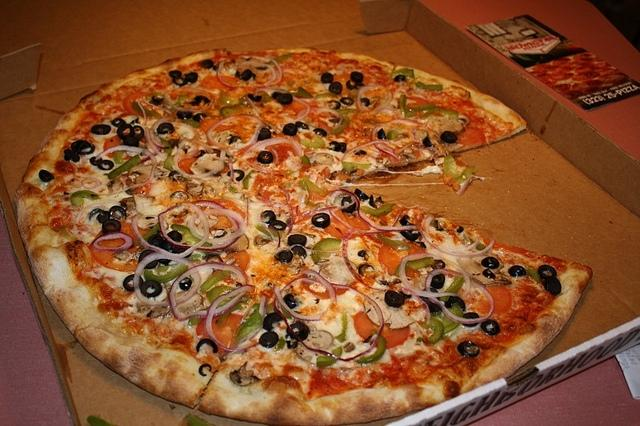bell pepper: (354, 329, 386, 364), (218, 295, 251, 327), (430, 302, 463, 334), (170, 224, 212, 247), (234, 312, 264, 343), (144, 263, 188, 284), (108, 154, 142, 180), (312, 238, 342, 263), (200, 270, 234, 292), (440, 276, 464, 302), (421, 317, 444, 344), (132, 100, 162, 120), (299, 176, 328, 196), (136, 222, 160, 246), (317, 346, 343, 367), (220, 100, 248, 119), (208, 286, 236, 304), (421, 107, 459, 120), (71, 190, 101, 206), (360, 204, 396, 217), (376, 236, 409, 250), (404, 104, 436, 118), (334, 312, 348, 342), (443, 154, 460, 178), (406, 256, 434, 270), (255, 224, 283, 238), (300, 134, 326, 149), (455, 166, 476, 184), (342, 160, 372, 172), (330, 117, 350, 134), (169, 94, 186, 114), (243, 170, 257, 190), (291, 86, 314, 98), (158, 136, 172, 155), (416, 80, 442, 90), (526, 268, 541, 284), (163, 154, 176, 172), (270, 54, 292, 64), (273, 336, 286, 352), (394, 68, 414, 78), (220, 93, 235, 105), (180, 120, 200, 128), (336, 108, 358, 115), (114, 150, 125, 164), (281, 306, 292, 320), (316, 92, 337, 98), (300, 154, 310, 164), (267, 302, 275, 314), (188, 253, 201, 260), (388, 131, 398, 140), (476, 243, 487, 250)
onion: (273, 276, 384, 362), (168, 262, 248, 322), (131, 202, 210, 260), (425, 269, 494, 324), (204, 284, 259, 352), (134, 252, 202, 306), (339, 188, 418, 231), (399, 253, 471, 297), (96, 144, 158, 194), (342, 227, 389, 291), (421, 218, 495, 256), (371, 118, 423, 161), (190, 209, 247, 243), (256, 88, 310, 122), (276, 286, 322, 322), (192, 200, 238, 232), (240, 296, 268, 344), (300, 269, 337, 305), (164, 86, 214, 112), (245, 137, 302, 156), (342, 140, 391, 161), (238, 60, 276, 86), (146, 126, 168, 160), (356, 86, 384, 112), (148, 118, 170, 150), (94, 233, 133, 250), (184, 138, 235, 150), (265, 58, 283, 86), (447, 239, 479, 253), (373, 89, 392, 111), (406, 256, 435, 270), (328, 188, 348, 204), (138, 99, 148, 127), (246, 96, 261, 114), (261, 224, 275, 243), (82, 177, 102, 188), (424, 215, 434, 235), (298, 190, 306, 207), (244, 196, 248, 226)
